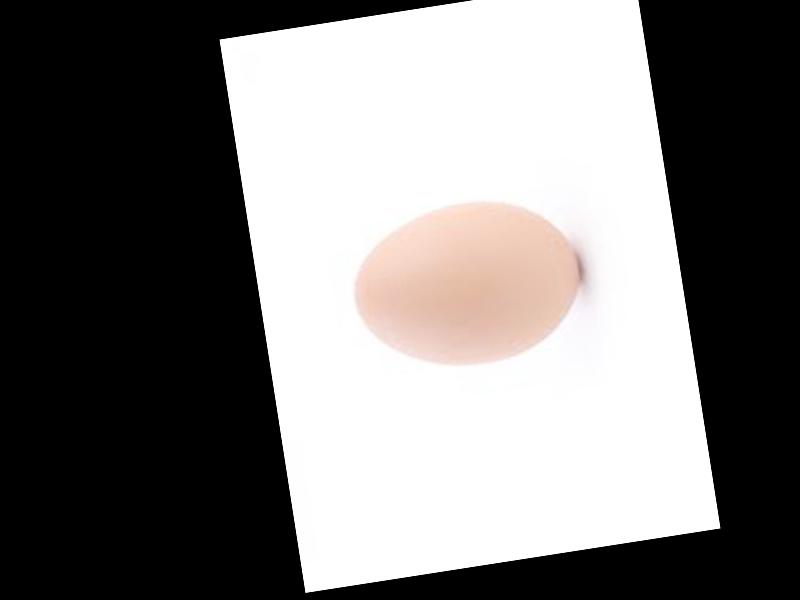Eggs: (341, 190, 590, 383)
